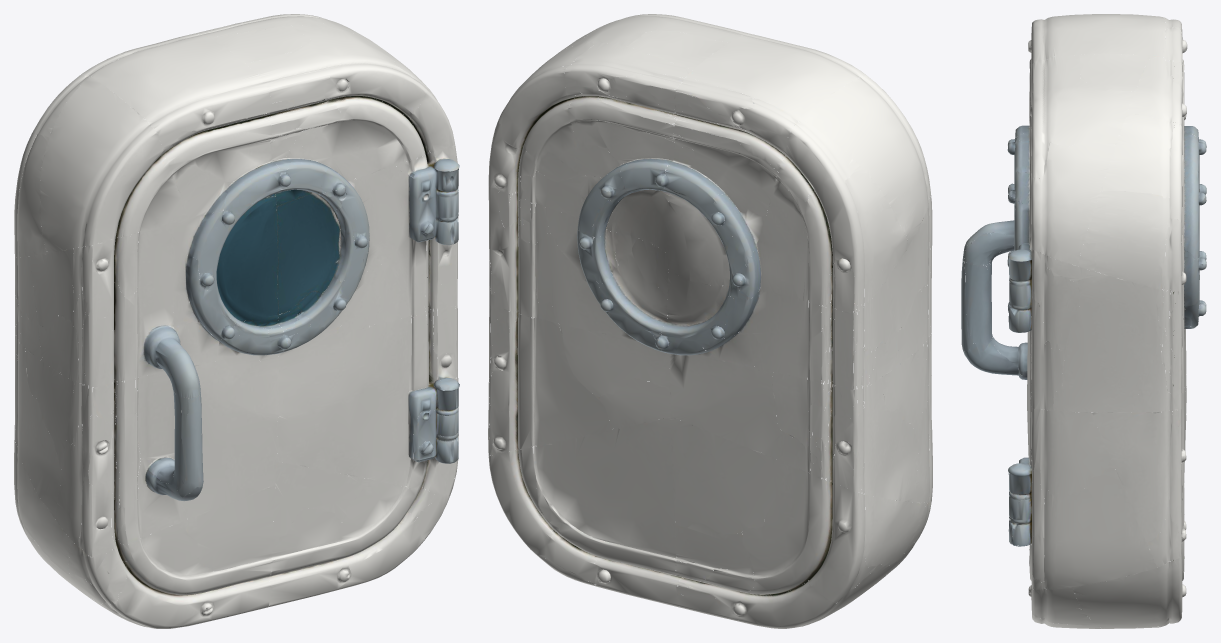
Rendered from hatch.glb.
3 renders of one model, left to right at view 1: azimuth 30°, elevation 25°; view 2: azimuth 150°, elevation 25°; view 3: azimuth 270°, elevation 25°, orthographic. The views are drawn at different scales.
Visible parts, largest first — view 1: hatch; view 2: hatch; view 3: hatch.
Part boxes in pixels (x1,y1,x2,y2): hatch: (14, 14, 459, 628); hatch: (488, 14, 932, 628); hatch: (961, 14, 1206, 628).
Size of the model in its own units: 0.7425 by 0.9809 by 0.4171.
Materials: 1 (1 with a texture image).
